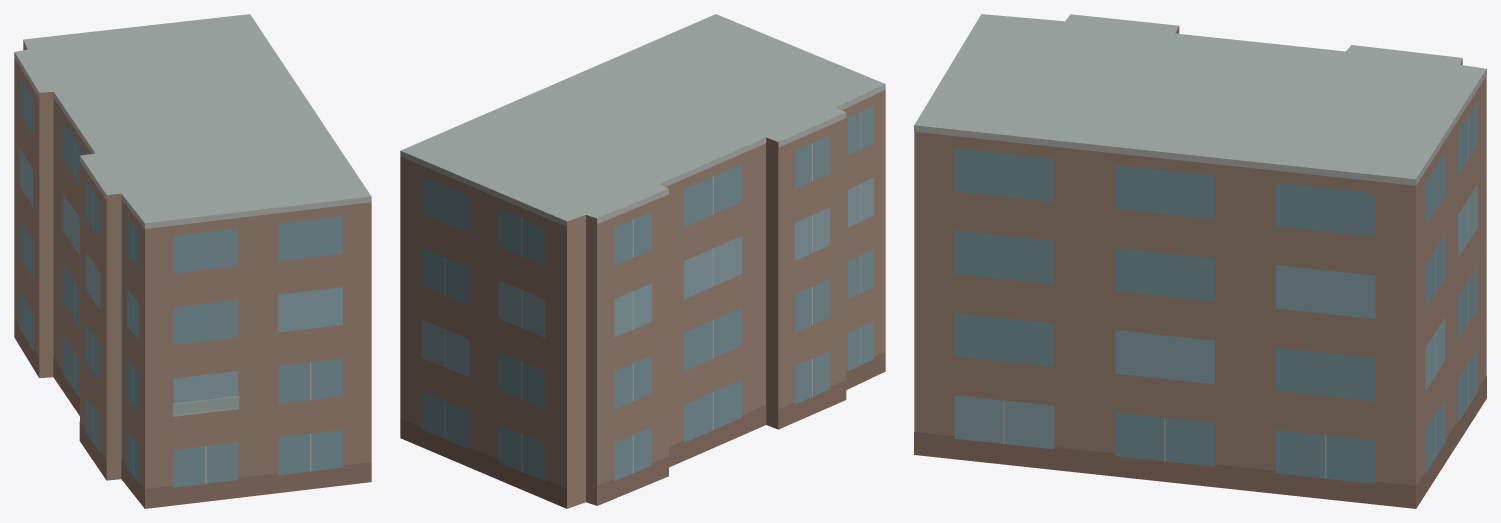
File: survey-upis-32879248.glb
3 views of the same model, side by side, from view 1: azimuth 30°, elevation 25°; view 2: azimuth 150°, elevation 25°; view 3: azimuth 270°, elevation 25° (orthographic). The views are drawn at different scales.
Visible parts, largest first — view 1: survey-upis-32879248.tmp; view 2: survey-upis-32879248.tmp; view 3: survey-upis-32879248.tmp.
Boxes of the visible parts, left/top/right/bottom form: survey-upis-32879248.tmp: left=14, top=14, right=371, bottom=508; survey-upis-32879248.tmp: left=400, top=14, right=885, bottom=508; survey-upis-32879248.tmp: left=914, top=14, right=1486, bottom=508.
Size of the model in its own units: 13.35 by 12.4 by 19.54.
